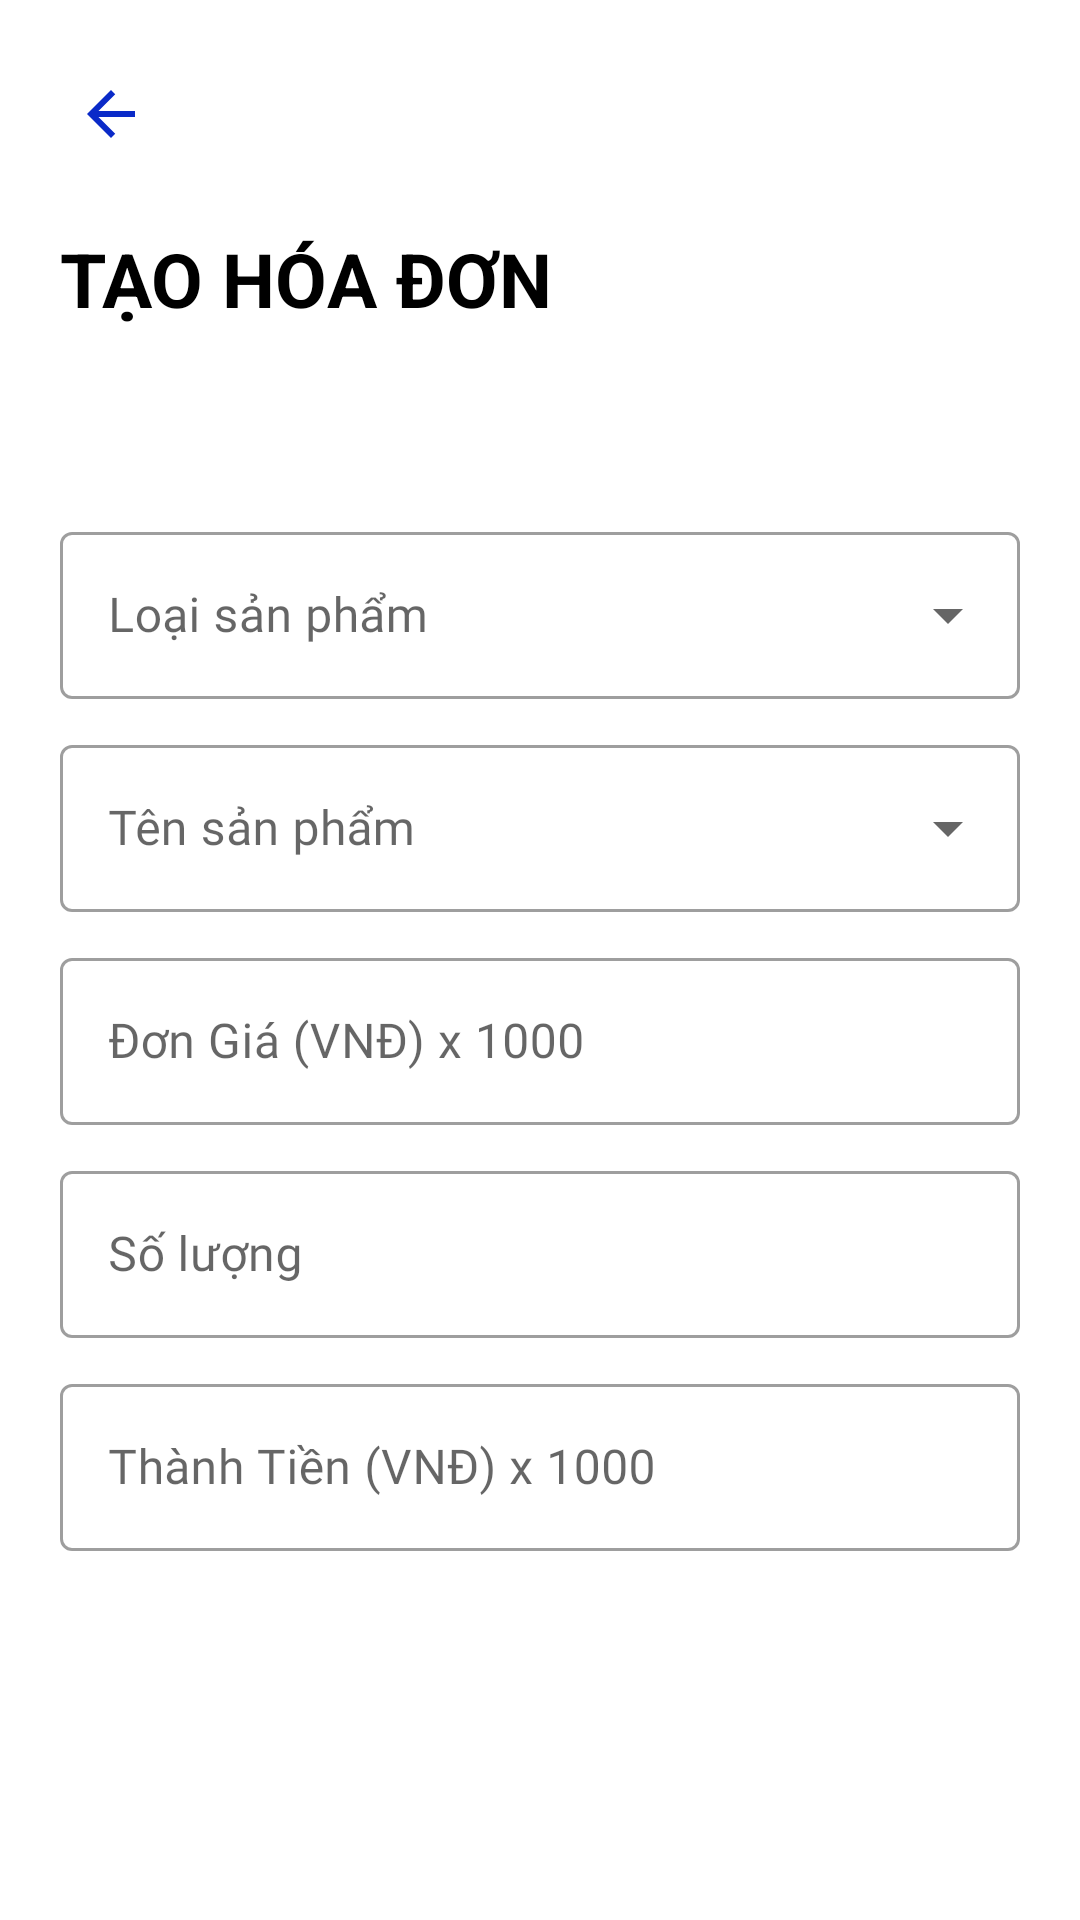

Screen size 1080x1920. Icon name, then its box in pixels as {"x1": x1, "y1": y1, "x2": x2, "y2": y2}:
arrow back: {"x1": 87, "y1": 90, "x2": 135, "y2": 138}
